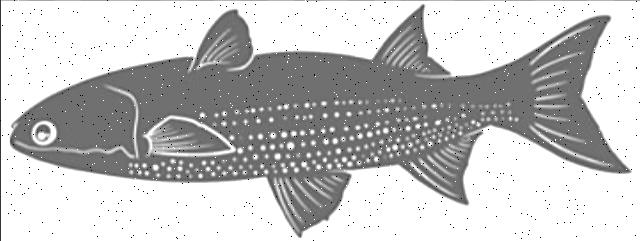Mulut: (4, 102, 26, 162)
Sirip Anal: (366, 0, 454, 90)
Sirip Dada: (141, 106, 233, 164)
Sirip Ekor: (518, 11, 632, 187)
Sirip Perut: (182, 2, 258, 88)
Sirip Punggung: (260, 123, 480, 239)
